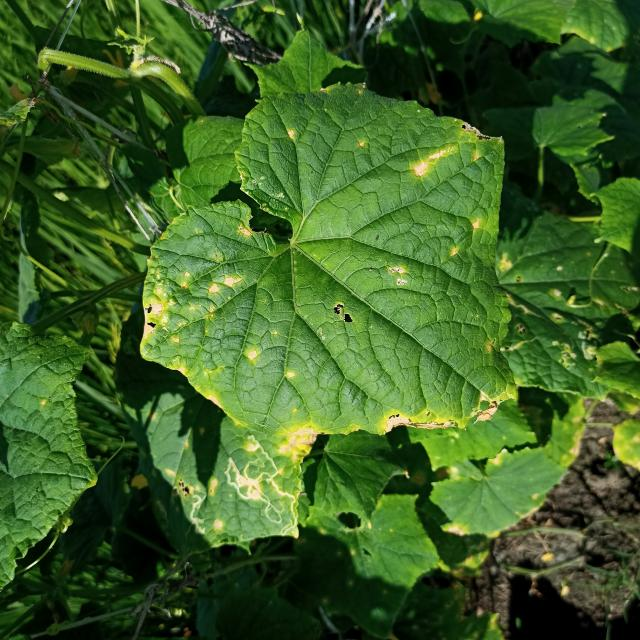disease_cucumber: (144, 259, 243, 341), (407, 130, 483, 182), (378, 409, 444, 433), (391, 263, 412, 288), (236, 224, 250, 237), (246, 351, 260, 363), (286, 130, 296, 144), (449, 248, 458, 261), (472, 220, 480, 228)
